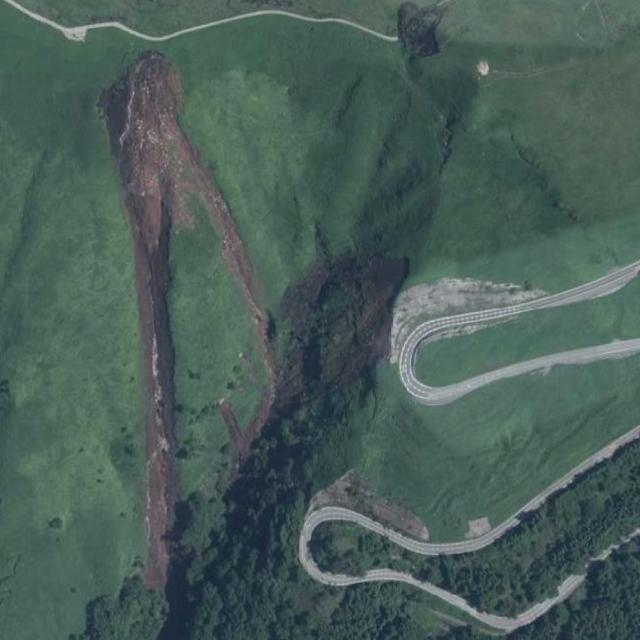landslide: (99, 51, 276, 592)
